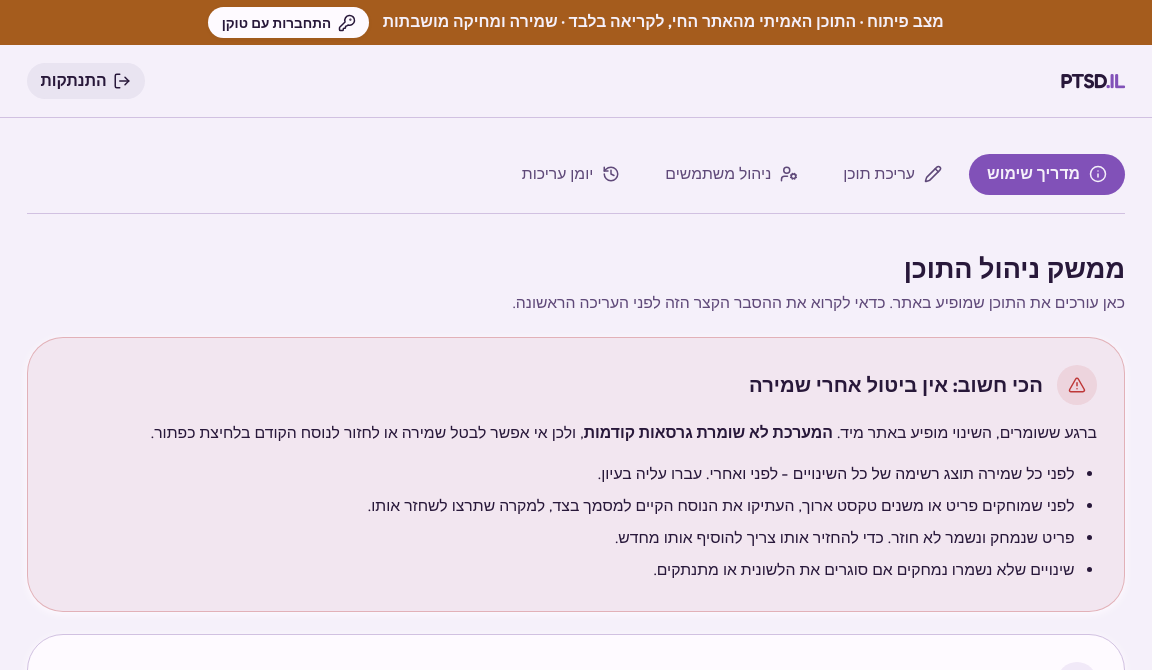
Test: admin: frame and home page › lists the editable pages under their own heading, without page copy or legal tabs
The width and height of the screenshot is (1152, 670).
Click the button "עריכת תוכן" at point(893, 174), box [825,154,960,194]
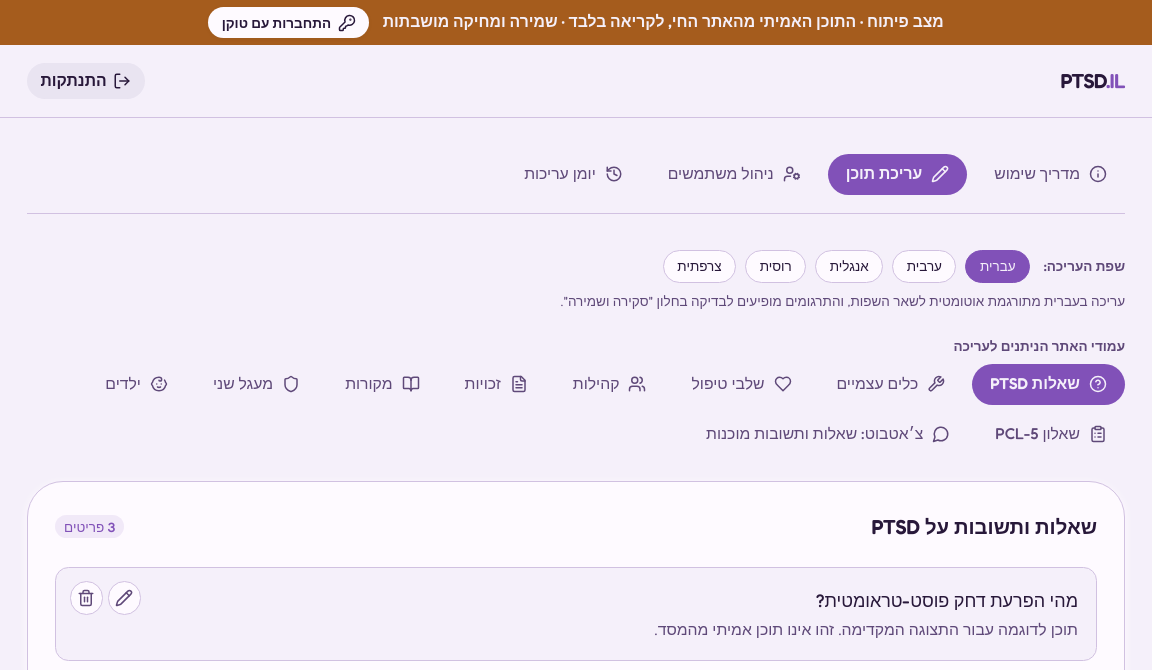
Expected: the heading "עמודי האתר הניתנים לעריכה" is shown, [953,338,1125,354]
Now the text "מהי הפרעת דחק פוסט-טראומטית?" is shown, box [816,589,1078,611]
